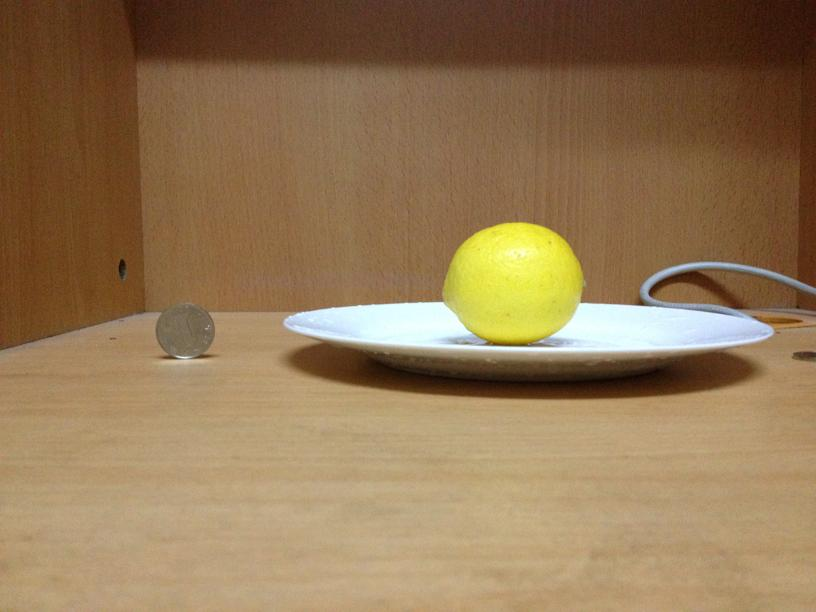coin: (151, 304, 213, 358)
lemon: (440, 217, 581, 343)
